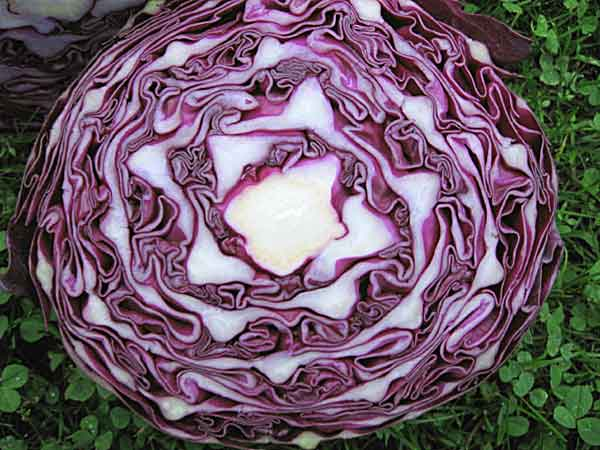cabbage: (9, 0, 567, 442)
